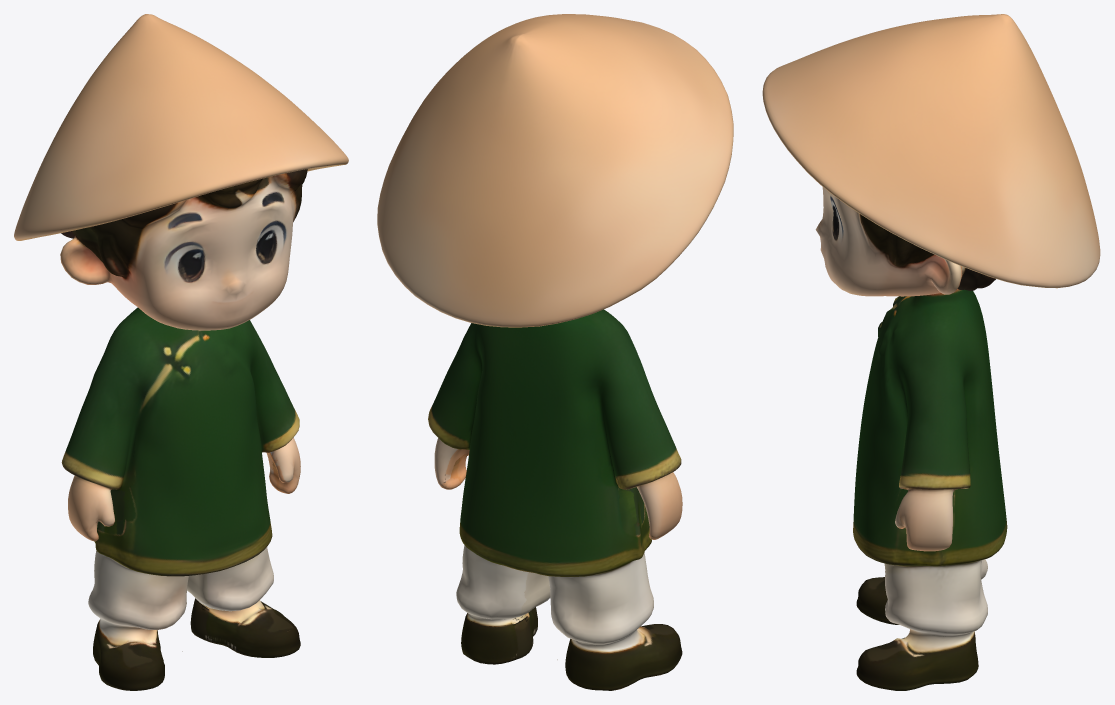
File: codo-hyper-textured-01-to-07.glb
3 views of the same model, side by side, from view 1: azimuth 30°, elevation 25°; view 2: azimuth 150°, elevation 25°; view 3: azimuth 270°, elevation 25° (orthographic). The views are drawn at different scales.
Visible parts, largest first — view 1: CoDo_Frame01_Idle_Textured; view 2: CoDo_Frame01_Idle_Textured; view 3: CoDo_Frame01_Idle_Textured.
Boxes of the visible parts, box(x1,y1,x2,y2) form: CoDo_Frame01_Idle_Textured: box(14, 14, 348, 690); CoDo_Frame01_Idle_Textured: box(377, 14, 733, 690); CoDo_Frame01_Idle_Textured: box(762, 14, 1100, 690).
Bounding box in the file's own units: 0.7592 × 1.55 × 0.7521.
Materials: 2 (2 with a texture image).
